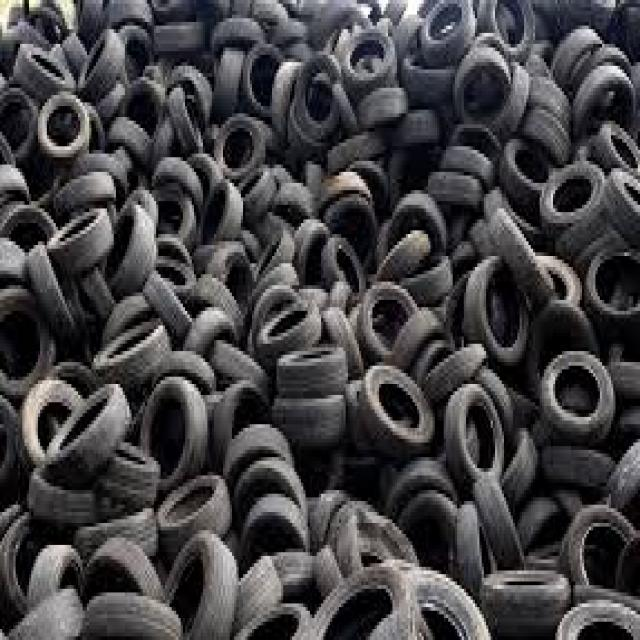Rubber -Non-Biodegradable but Recyclable-: (1, 0, 639, 640)
